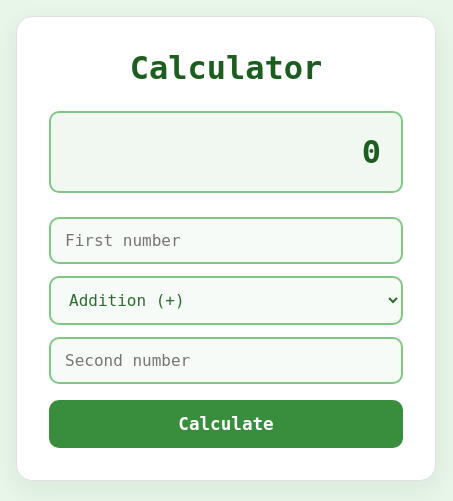
it: Calculator › calculates and displays the result
Type "10" into the number field with placeholder "First number".
click(226, 240); type("10")  # box left=49, top=217, right=403, bottom=264
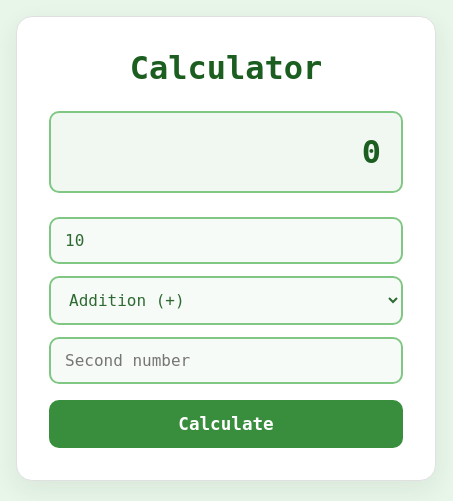
Type "5" into the number field with placeholder "Second number".
click(226, 360); type("5")  # box left=49, top=337, right=403, bottom=384
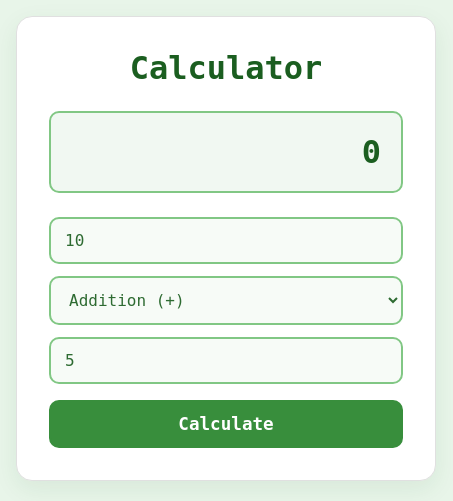
Click the button "Calculate".
click(226, 424)  # box left=49, top=400, right=403, bottom=448
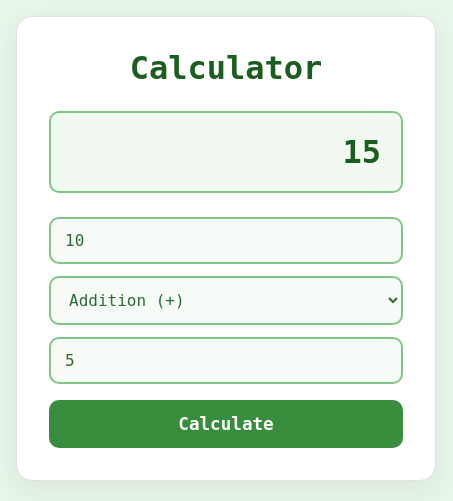
Expected: the text "15" is shown, left=49, top=111, right=403, bottom=193
